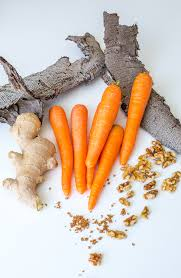carrot: (37, 101, 77, 195), (65, 105, 102, 195), (88, 120, 120, 219), (125, 70, 153, 183), (90, 78, 118, 177)
